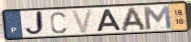A: (120, 7, 148, 33), (95, 9, 123, 33)
C: (49, 11, 68, 35)
J: (24, 10, 47, 37)
M: (142, 4, 174, 31)
V: (70, 8, 95, 34)
